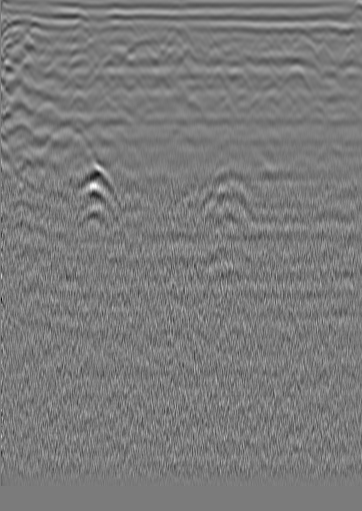가스: (70, 165, 112, 196)
상수: (319, 31, 339, 51)
오수: (23, 30, 43, 50)
우수: (176, 31, 196, 51)
